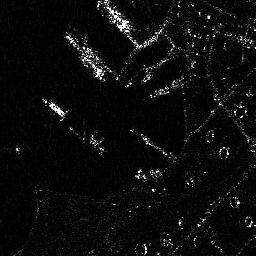ship: (64, 31, 108, 81), (96, 1, 137, 36), (41, 98, 67, 116)
